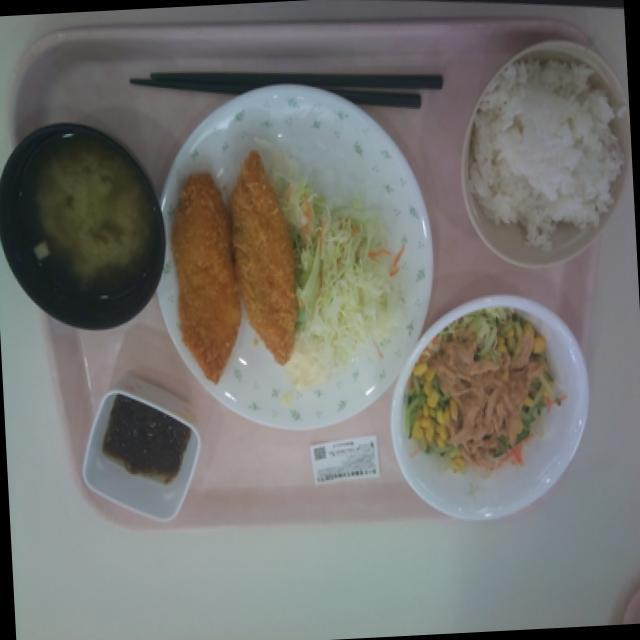Rice: (480, 62, 614, 244)
